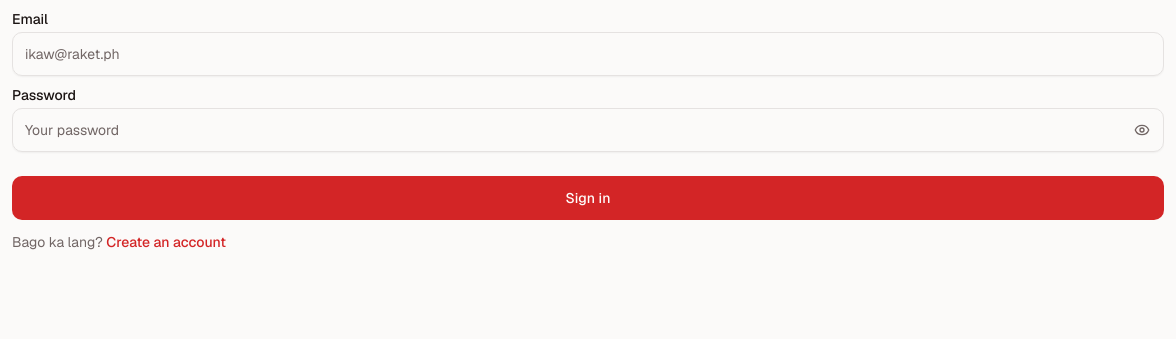
LoginForm › shows a general error as an alert
Click the button "Sign in" at (588, 198), box [12,176,1164,220]
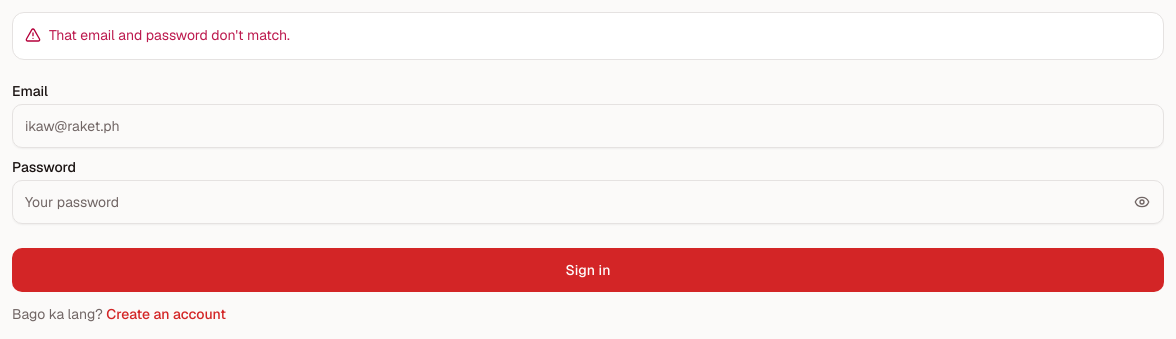
Now the message reads "That email and password don't match.", box [49,26,290,44]
